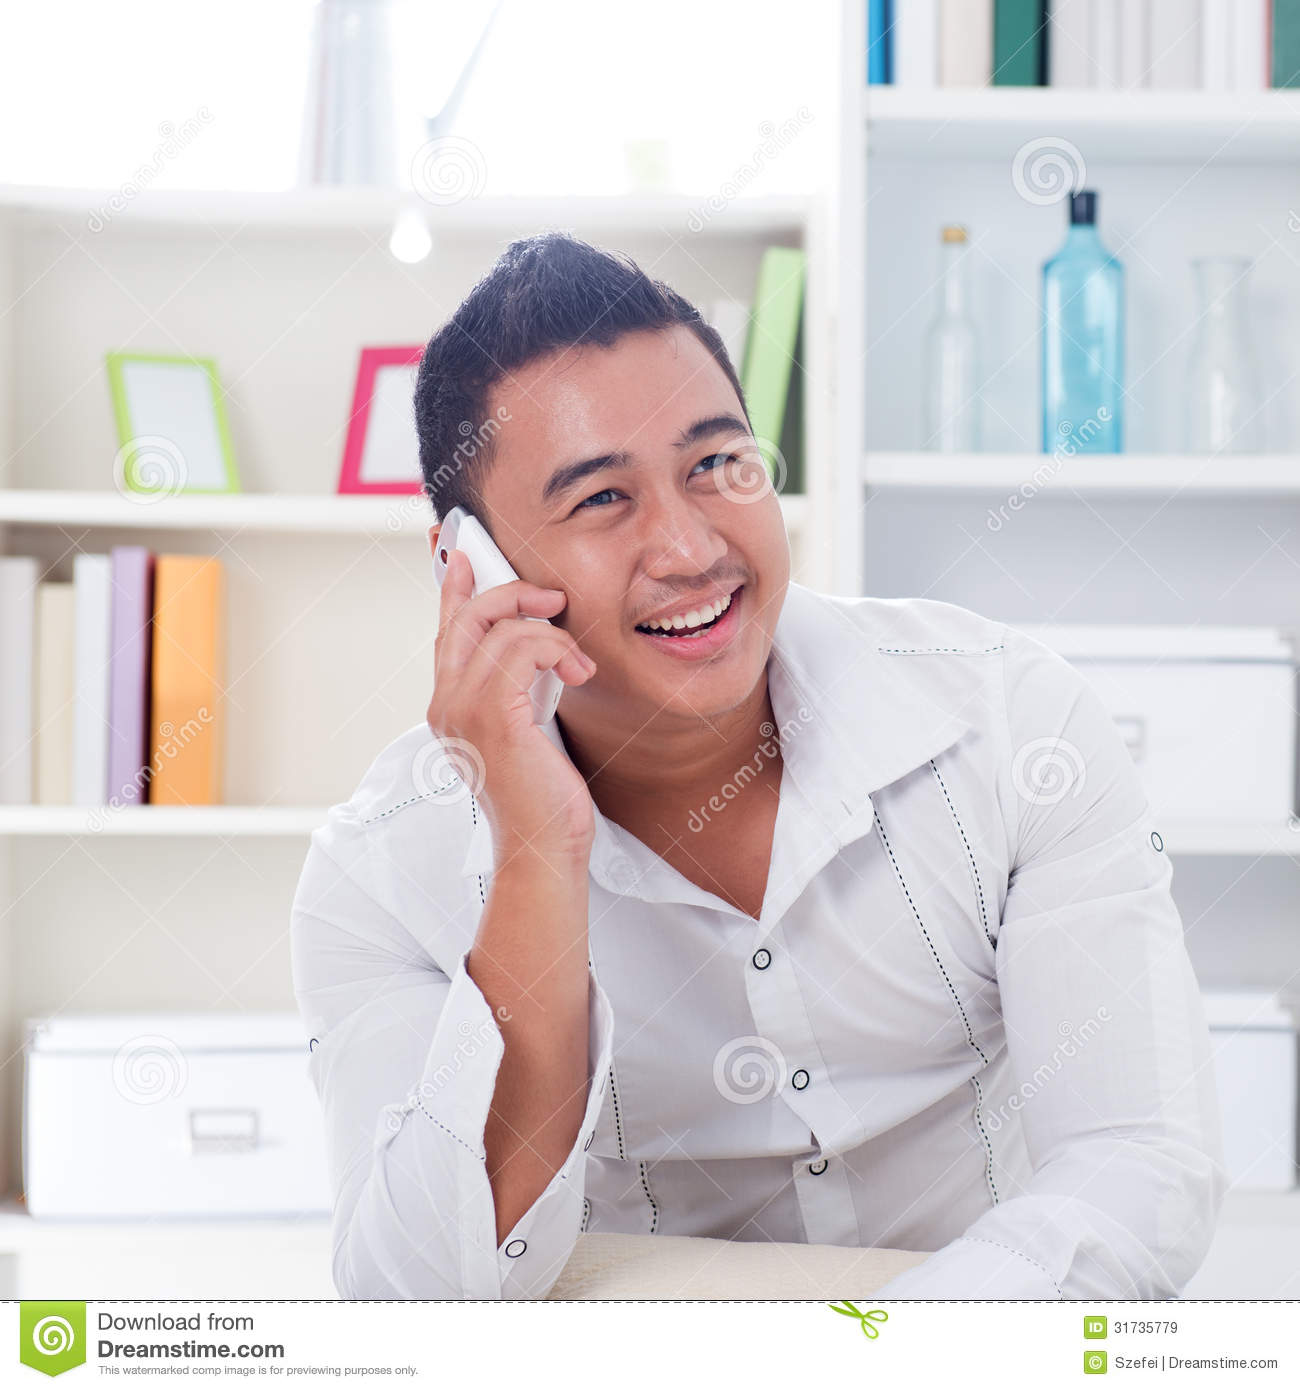phone: (435, 517, 564, 727)
talk: (417, 392, 784, 892)
